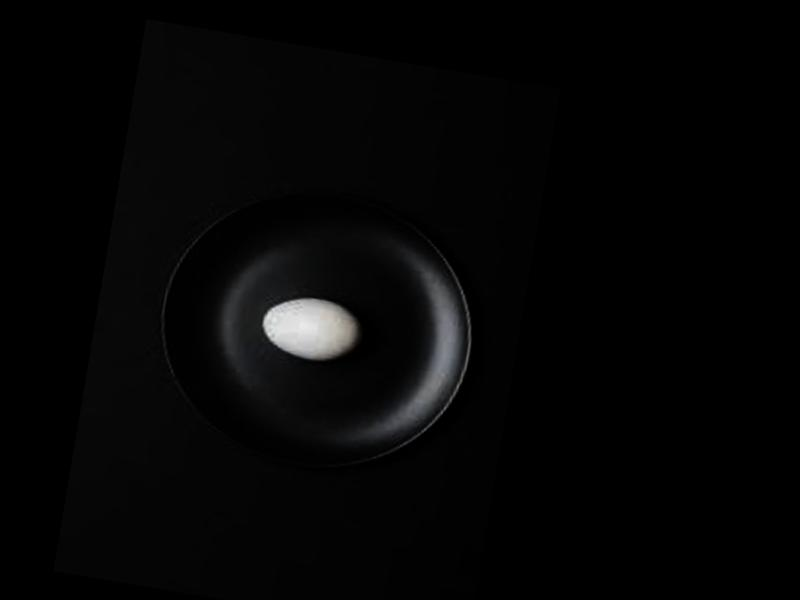Eggs: (258, 290, 365, 368)
